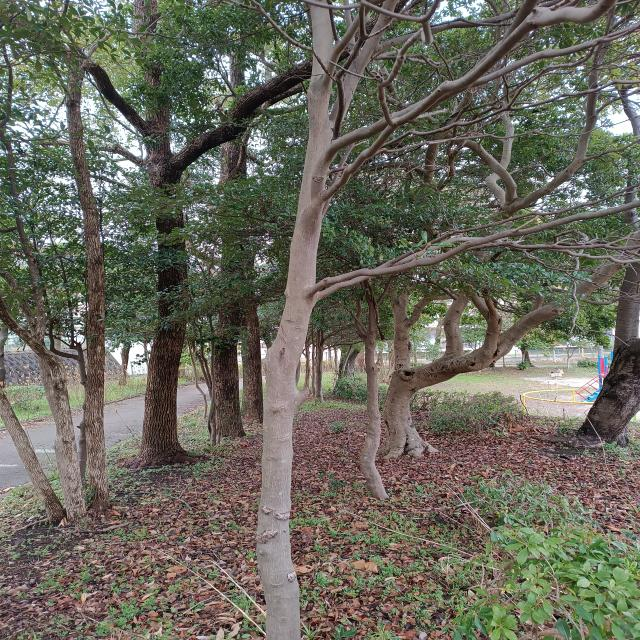Branch: (264, 117, 335, 364), (176, 57, 311, 183), (495, 259, 627, 365), (329, 0, 397, 123), (80, 57, 152, 137), (307, 0, 334, 118), (470, 290, 504, 356), (443, 285, 471, 354), (405, 292, 451, 325), (108, 141, 149, 178)
Twig: (309, 24, 634, 207), (324, 0, 616, 198), (320, 199, 640, 287), (384, 45, 639, 146), (392, 185, 636, 260), (321, 235, 481, 299), (378, 27, 422, 116), (465, 233, 639, 250), (334, 10, 360, 70), (548, 249, 639, 264)
